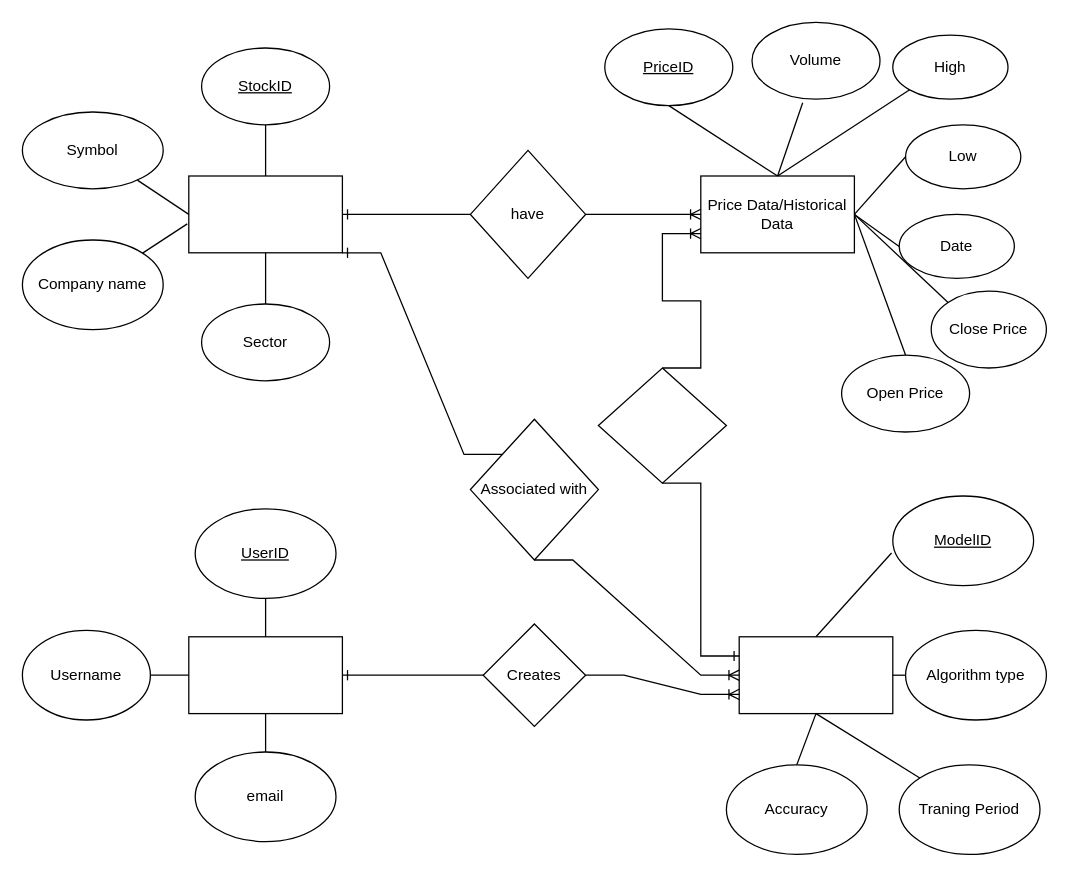
This 1069x877 diagram has some shape labels left out. Here are the shapes that lost their labels. From the top down, the centre of each, then its label:
the point at 265,214: Stock
the point at 661,425: Is trained
the point at 265,675: User
the point at 815,675: Predictor Model
